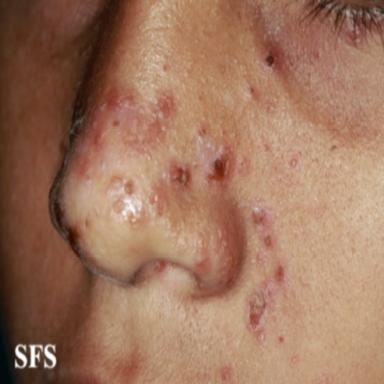Impetigo: (47, 80, 251, 301), (244, 199, 294, 348)
